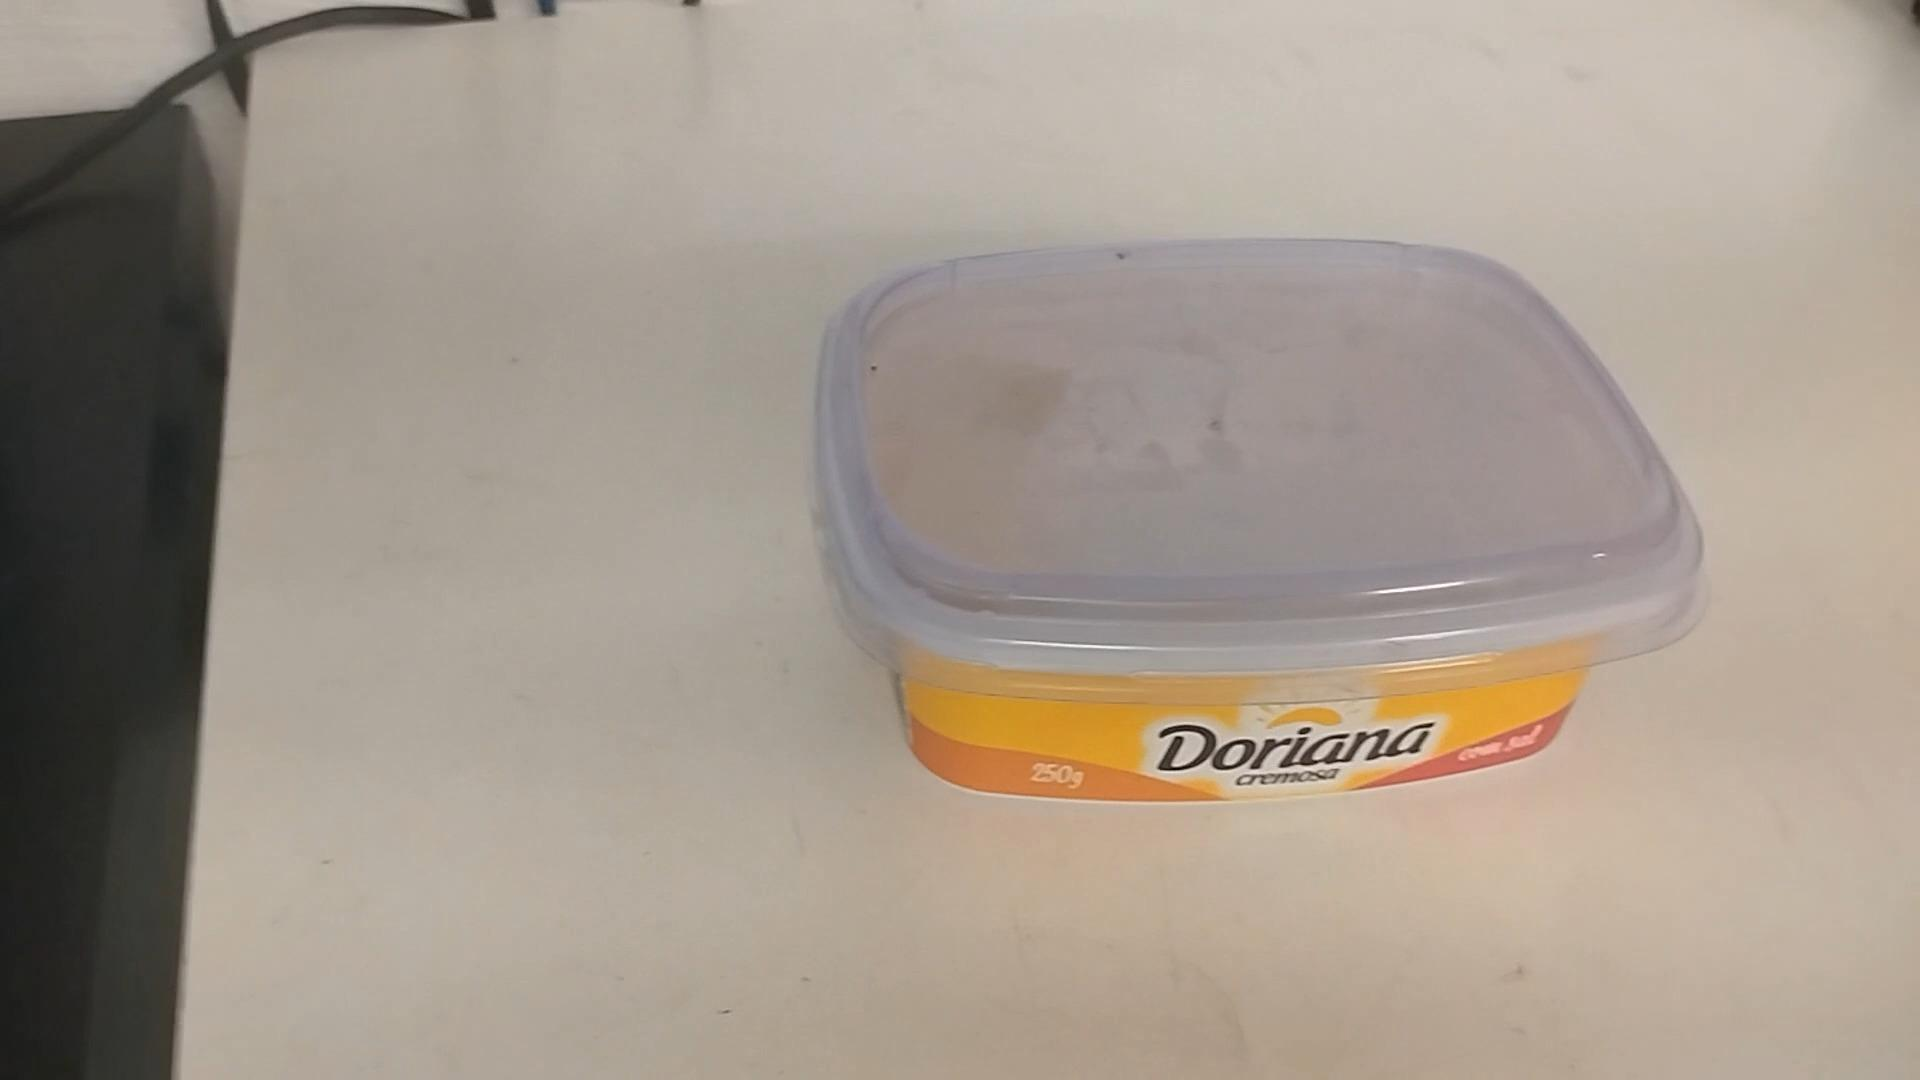butter: (814, 251, 1718, 808)
